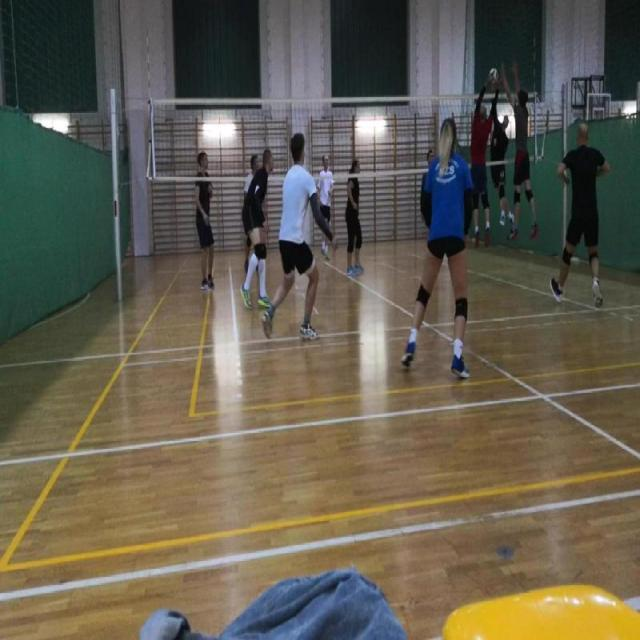volleyball: (488, 67, 499, 85)
